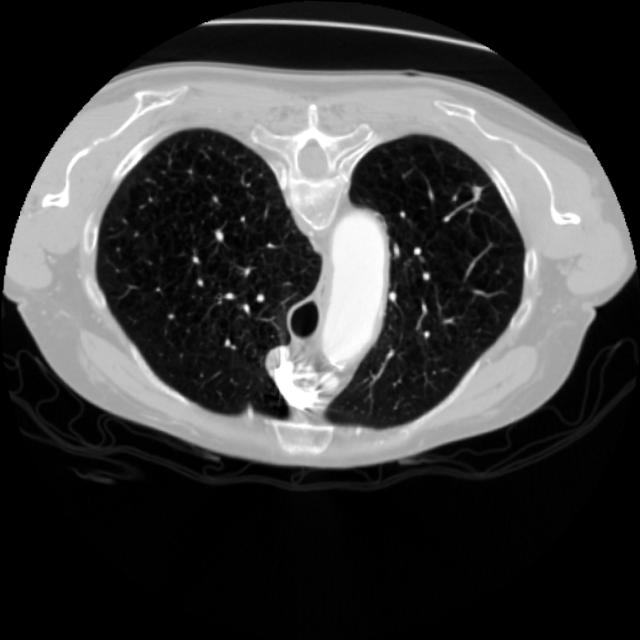nodule: (459, 178, 490, 208)
